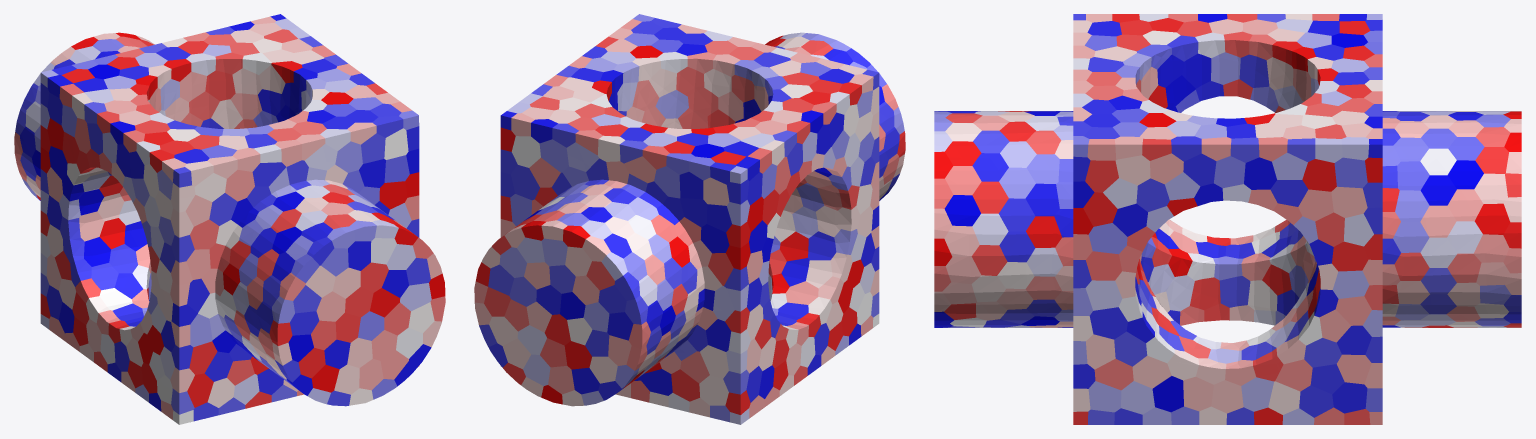
The model's file is Ours_1000_block_Iter36_RVD.obj.
3 renders of one model, left to right at view 1: azimuth 30°, elevation 25°; view 2: azimuth 150°, elevation 25°; view 3: azimuth 270°, elevation 25°, orthographic. The views are drawn at different scales.
Parts seen in each view (by area): view 1: 3D_Object; view 2: 3D_Object; view 3: 3D_Object.
Part boxes in pixels (left/top/right/bottom): 3D_Object: left=14, top=14, right=445, bottom=424; 3D_Object: left=474, top=14, right=905, bottom=424; 3D_Object: left=934, top=14, right=1521, bottom=424.
Bounding box in the file's own units: 20 × 20 × 38.
1 material, 1 textured.
